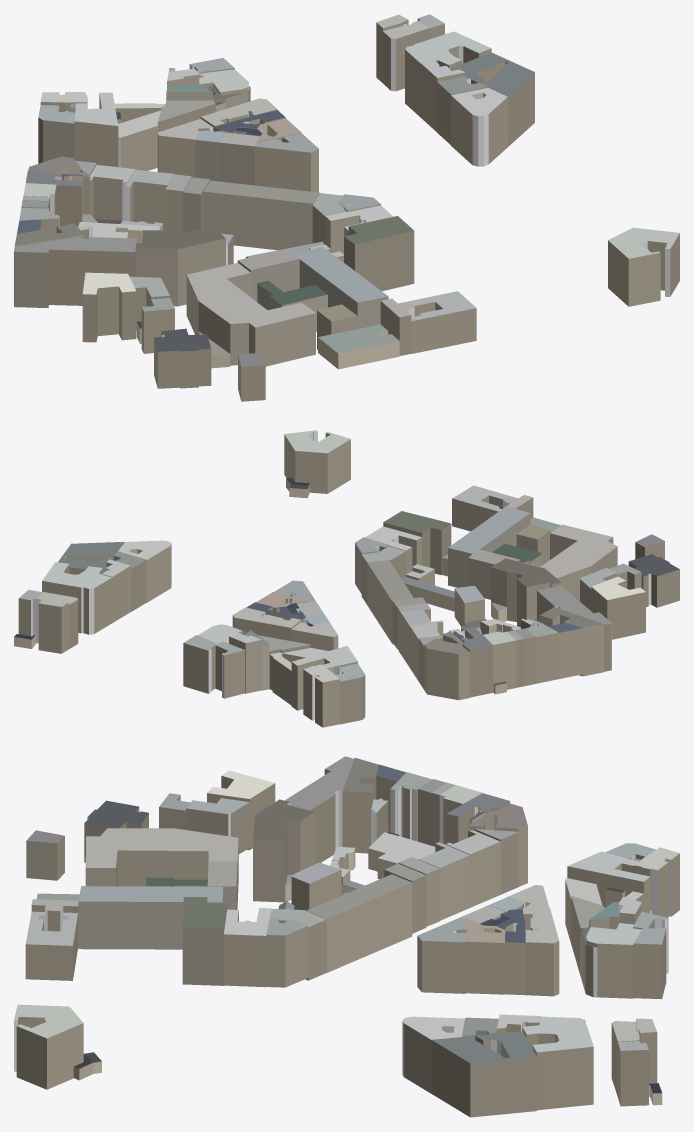
The picture shows the model from 3 angles, top to bottom: view 1: azimuth 30°, elevation 25°; view 2: azimuth 150°, elevation 25°; view 3: azimuth 270°, elevation 25°; orthographic projection. The views are drawn at different scales.
Visible parts, largest first — view 1: tuile; view 2: tuile; view 3: tuile.
Part boxes in pixels (x1,y1,x2,y2): tuile: (14, 14, 679, 401); tuile: (14, 430, 679, 727); tuile: (14, 756, 679, 1117).
Bounding box in the file's own units: 275 × 33.23 × 256.
